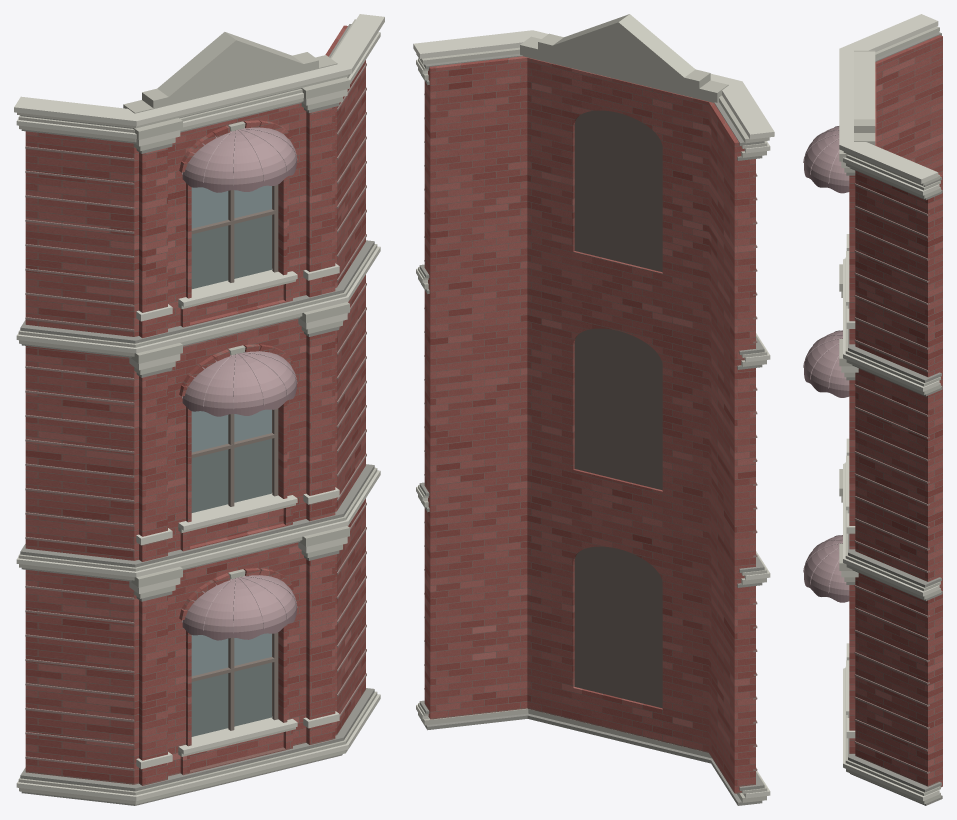
Rendered from jenkee-red-brick-corner-near.glb.
3 views of the same model, side by side, from view 1: azimuth 30°, elevation 25°; view 2: azimuth 150°, elevation 25°; view 3: azimuth 270°, elevation 25° (orthographic). The views are drawn at different scales.
Parts seen in each view (by area): view 1: 仁记路119号大楼红砖切角窗间; view 2: 仁记路119号大楼红砖切角窗间; view 3: 仁记路119号大楼红砖切角窗间.
Part boxes in pixels (<box>): 仁记路119号大楼红砖切角窗间: <box>14,14,384,805</box>; 仁记路119号大楼红砖切角窗间: <box>413,14,774,805</box>; 仁记路119号大楼红砖切角窗间: <box>803,14,942,805</box>.
Size of the model in its own units: 4.61 by 8.78 by 1.65.
12 materials, 1 textured.
